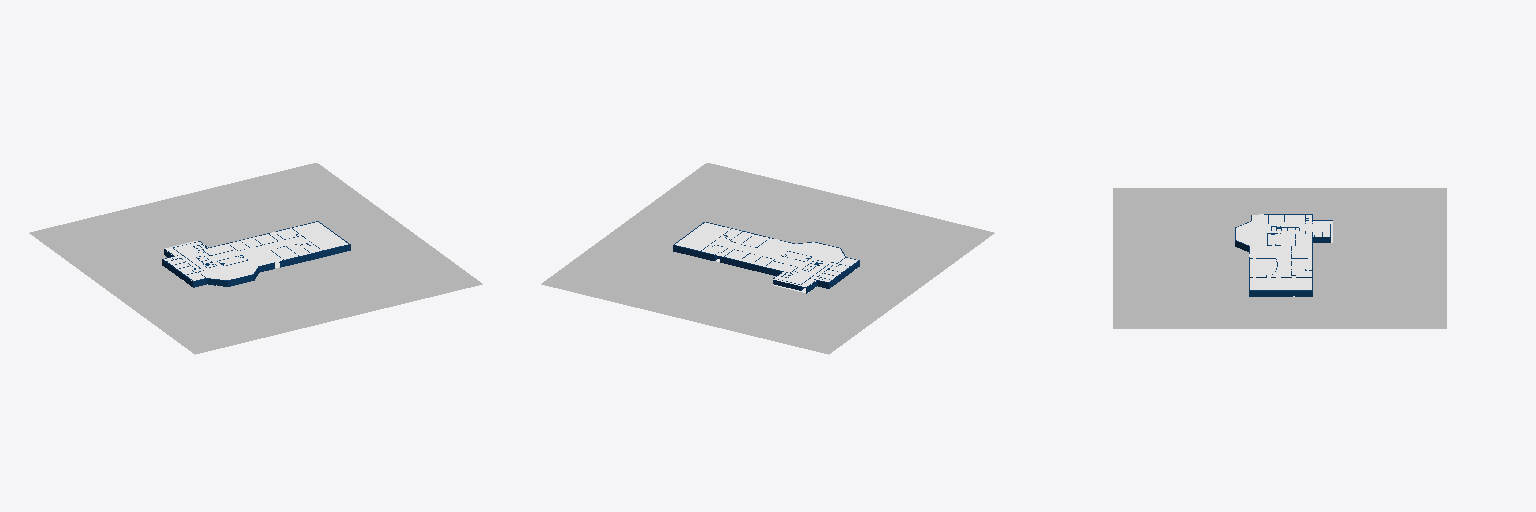
Rendered from PlanWithTextures.obj.
The picture shows the model from 3 angles: view 1: azimuth 30°, elevation 25°; view 2: azimuth 150°, elevation 25°; view 3: azimuth 270°, elevation 25°; orthographic projection.
Parts seen in each view (by area): view 1: Plane, Plafond_CUColor_Fill_2.002, Murs_CUColor_Fill_1.001; view 2: Plane, Plafond_CUColor_Fill_2.002, Murs_CUColor_Fill_1.001; view 3: Plane, Plafond_CUColor_Fill_2.002, Murs_CUColor_Fill_1.001.
Boxes of the visible parts, <box> form: Plane: <box>29,163,482,354</box>; Plafond_CUColor_Fill_2.002: <box>164,222,347,280</box>; Murs_CUColor_Fill_1.001: <box>162,221,350,287</box>; Plane: <box>541,163,994,354</box>; Plafond_CUColor_Fill_2.002: <box>675,222,857,286</box>; Murs_CUColor_Fill_1.001: <box>673,222,859,293</box>; Plane: <box>1113,188,1446,328</box>; Plafond_CUColor_Fill_2.002: <box>1236,214,1332,289</box>; Murs_CUColor_Fill_1.001: <box>1235,214,1332,296</box>.
Size of the model in its own units: 120 by 3 by 120.